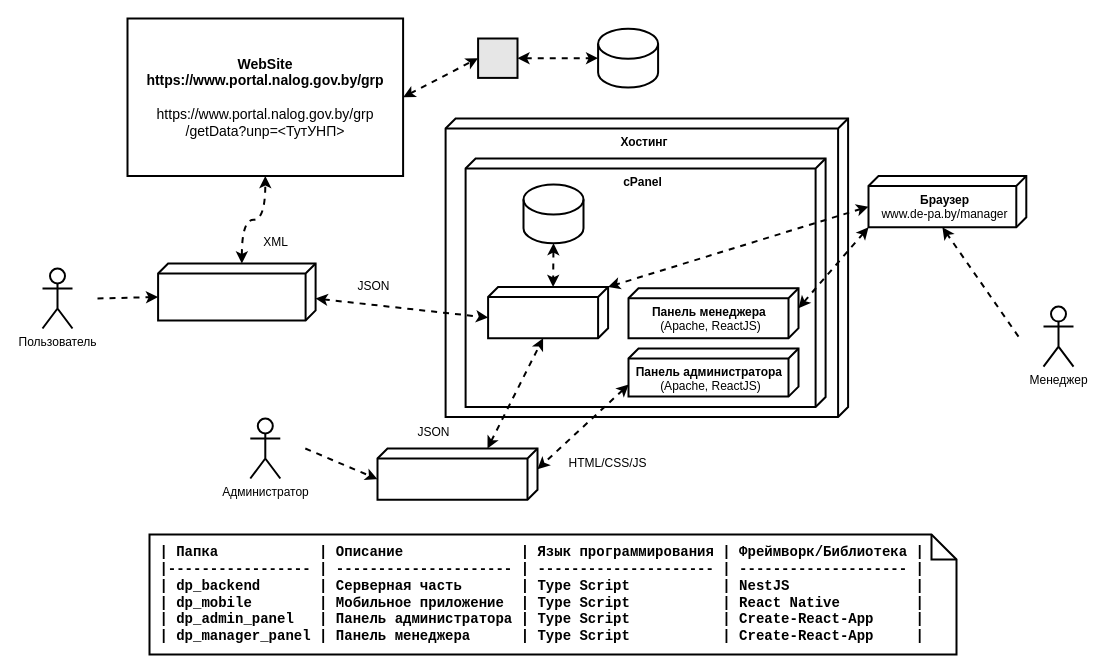
This 1115x672 diagram has some shape labels left out. The centre of each missing label's shape, as x and y in pixels:
"Android (app-release.apk)" belongs at point 236,291.
"MySQL" belongs at point 553,213.
"БД" belongs at point 628,57.
"Браузер www.de-pa.by/admin" belongs at point 457,473.
"Серверная часть (NodeJS)" belongs at point 548,312.
